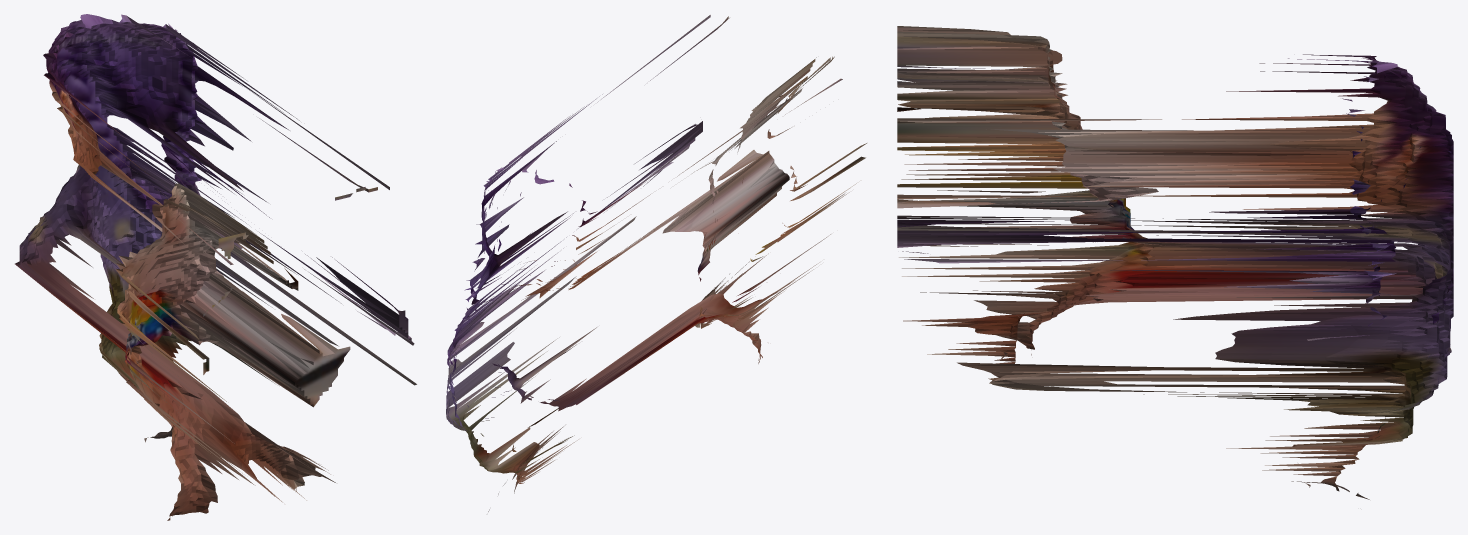
File: frame_00278.glb
The picture shows the model from 3 angles, left to right: view 1: azimuth 30°, elevation 25°; view 2: azimuth 150°, elevation 25°; view 3: azimuth 270°, elevation 25°; orthographic projection. The views are drawn at different scales.
Parts seen in each view (by area): view 1: geometry_0; view 2: geometry_0; view 3: geometry_0.
Part boxes in pixels (<box>): geometry_0: <box>15,14,416,520</box>; geometry_0: <box>446,15,866,511</box>; geometry_0: <box>897,26,1453,499</box>.
Size of the model in its own units: 0.0832 by 0.1355 by 0.16.
1 material, 1 textured.
